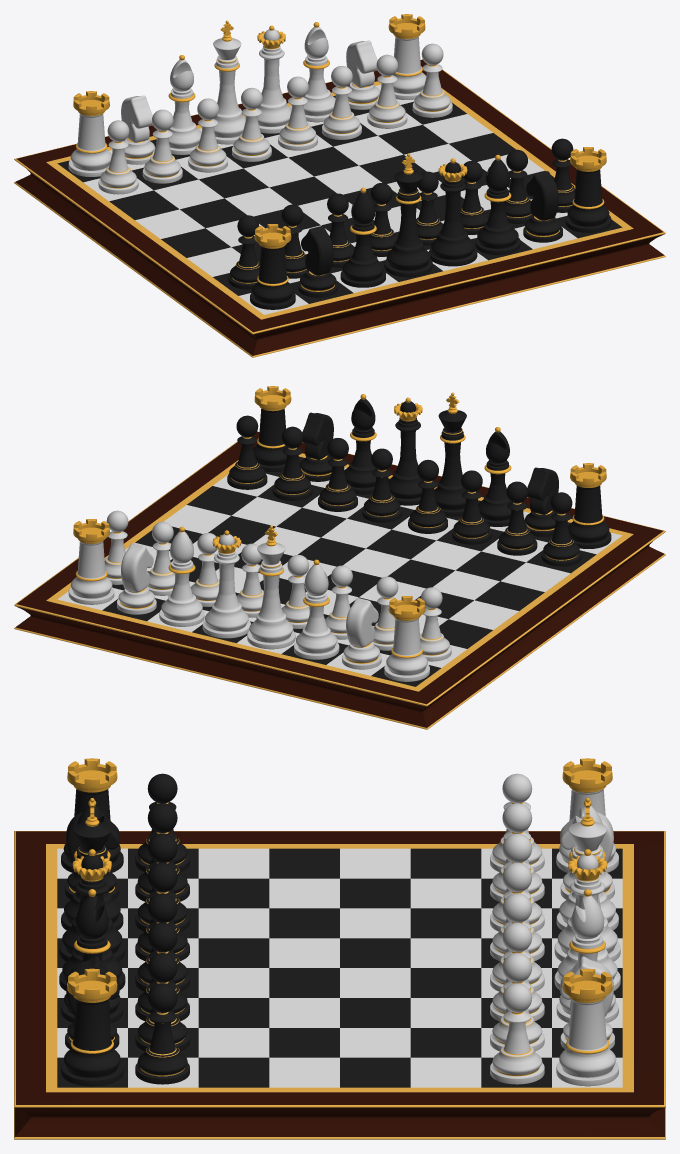
The model's file is chess.glb.
3 views of the same model, one above another, from view 1: azimuth 30°, elevation 25°; view 2: azimuth 150°, elevation 25°; view 3: azimuth 270°, elevation 25° (orthographic). The views are drawn at different scales.
Parts seen in each view (by area): view 1: Plane, Circle.029, Circle.035, Circle.026, Circle.036, Circle.031, Circle.008, Circle.028, Circle.027, Circle.001, Circle.007, Circle.032 (+21 smaller); view 2: Plane, Circle.008, Circle.007, Circle.001, Circle.031, Circle.036, Circle.029, Circle.032, Circle.003, Circle.026, Circle.035, Circle.028 (+21 smaller); view 3: Plane, Circle.001, Circle.026, Circle.024, Circle.018, Circle.036, Circle.031, Circle.027, Circle.003, Circle.008, Circle.029, Circle.035 (+21 smaller).
Part boxes in pixels (bbox=[...]): Plane: bbox=[14, 59, 665, 357]; Circle.029: bbox=[384, 153, 432, 277]; Circle.035: bbox=[429, 158, 477, 266]; Circle.026: bbox=[565, 147, 611, 232]; Circle.036: bbox=[250, 224, 295, 309]; Circle.031: bbox=[68, 91, 111, 176]; Circle.008: bbox=[213, 20, 245, 144]; Circle.028: bbox=[340, 187, 385, 287]; Circle.027: bbox=[475, 154, 520, 254]; Circle.001: bbox=[388, 14, 426, 99]; Circle.007: bbox=[257, 25, 291, 133]; Circle.032: bbox=[168, 55, 201, 154]; Plane: bbox=[14, 431, 665, 729]; Circle.008: bbox=[247, 525, 295, 649]; Circle.007: bbox=[202, 530, 250, 638]; Circle.001: bbox=[68, 519, 114, 604]; Circle.031: bbox=[384, 596, 429, 681]; Circle.036: bbox=[568, 463, 611, 548]; Circle.029: bbox=[434, 392, 466, 516]; Circle.032: bbox=[294, 559, 339, 659]; Circle.003: bbox=[159, 526, 204, 626]; Circle.026: bbox=[253, 386, 291, 471]; Circle.035: bbox=[388, 397, 422, 505]; Circle.028: bbox=[478, 427, 511, 526]; Plane: bbox=[14, 831, 665, 1139]; Circle.001: bbox=[556, 968, 618, 1086]; Circle.026: bbox=[61, 968, 123, 1086]; Circle.024: bbox=[490, 983, 544, 1084]; Circle.018: bbox=[135, 983, 189, 1084]; Circle.036: bbox=[61, 758, 123, 872]; Circle.031: bbox=[556, 758, 618, 872]; Circle.027: bbox=[61, 889, 123, 1022]; Circle.003: bbox=[556, 889, 618, 1022]; Circle.008: bbox=[554, 798, 620, 961]; Circle.029: bbox=[59, 798, 125, 961]; Circle.035: bbox=[59, 849, 125, 990].
Bounding box in the file's own units: 331 × 106 × 331.
